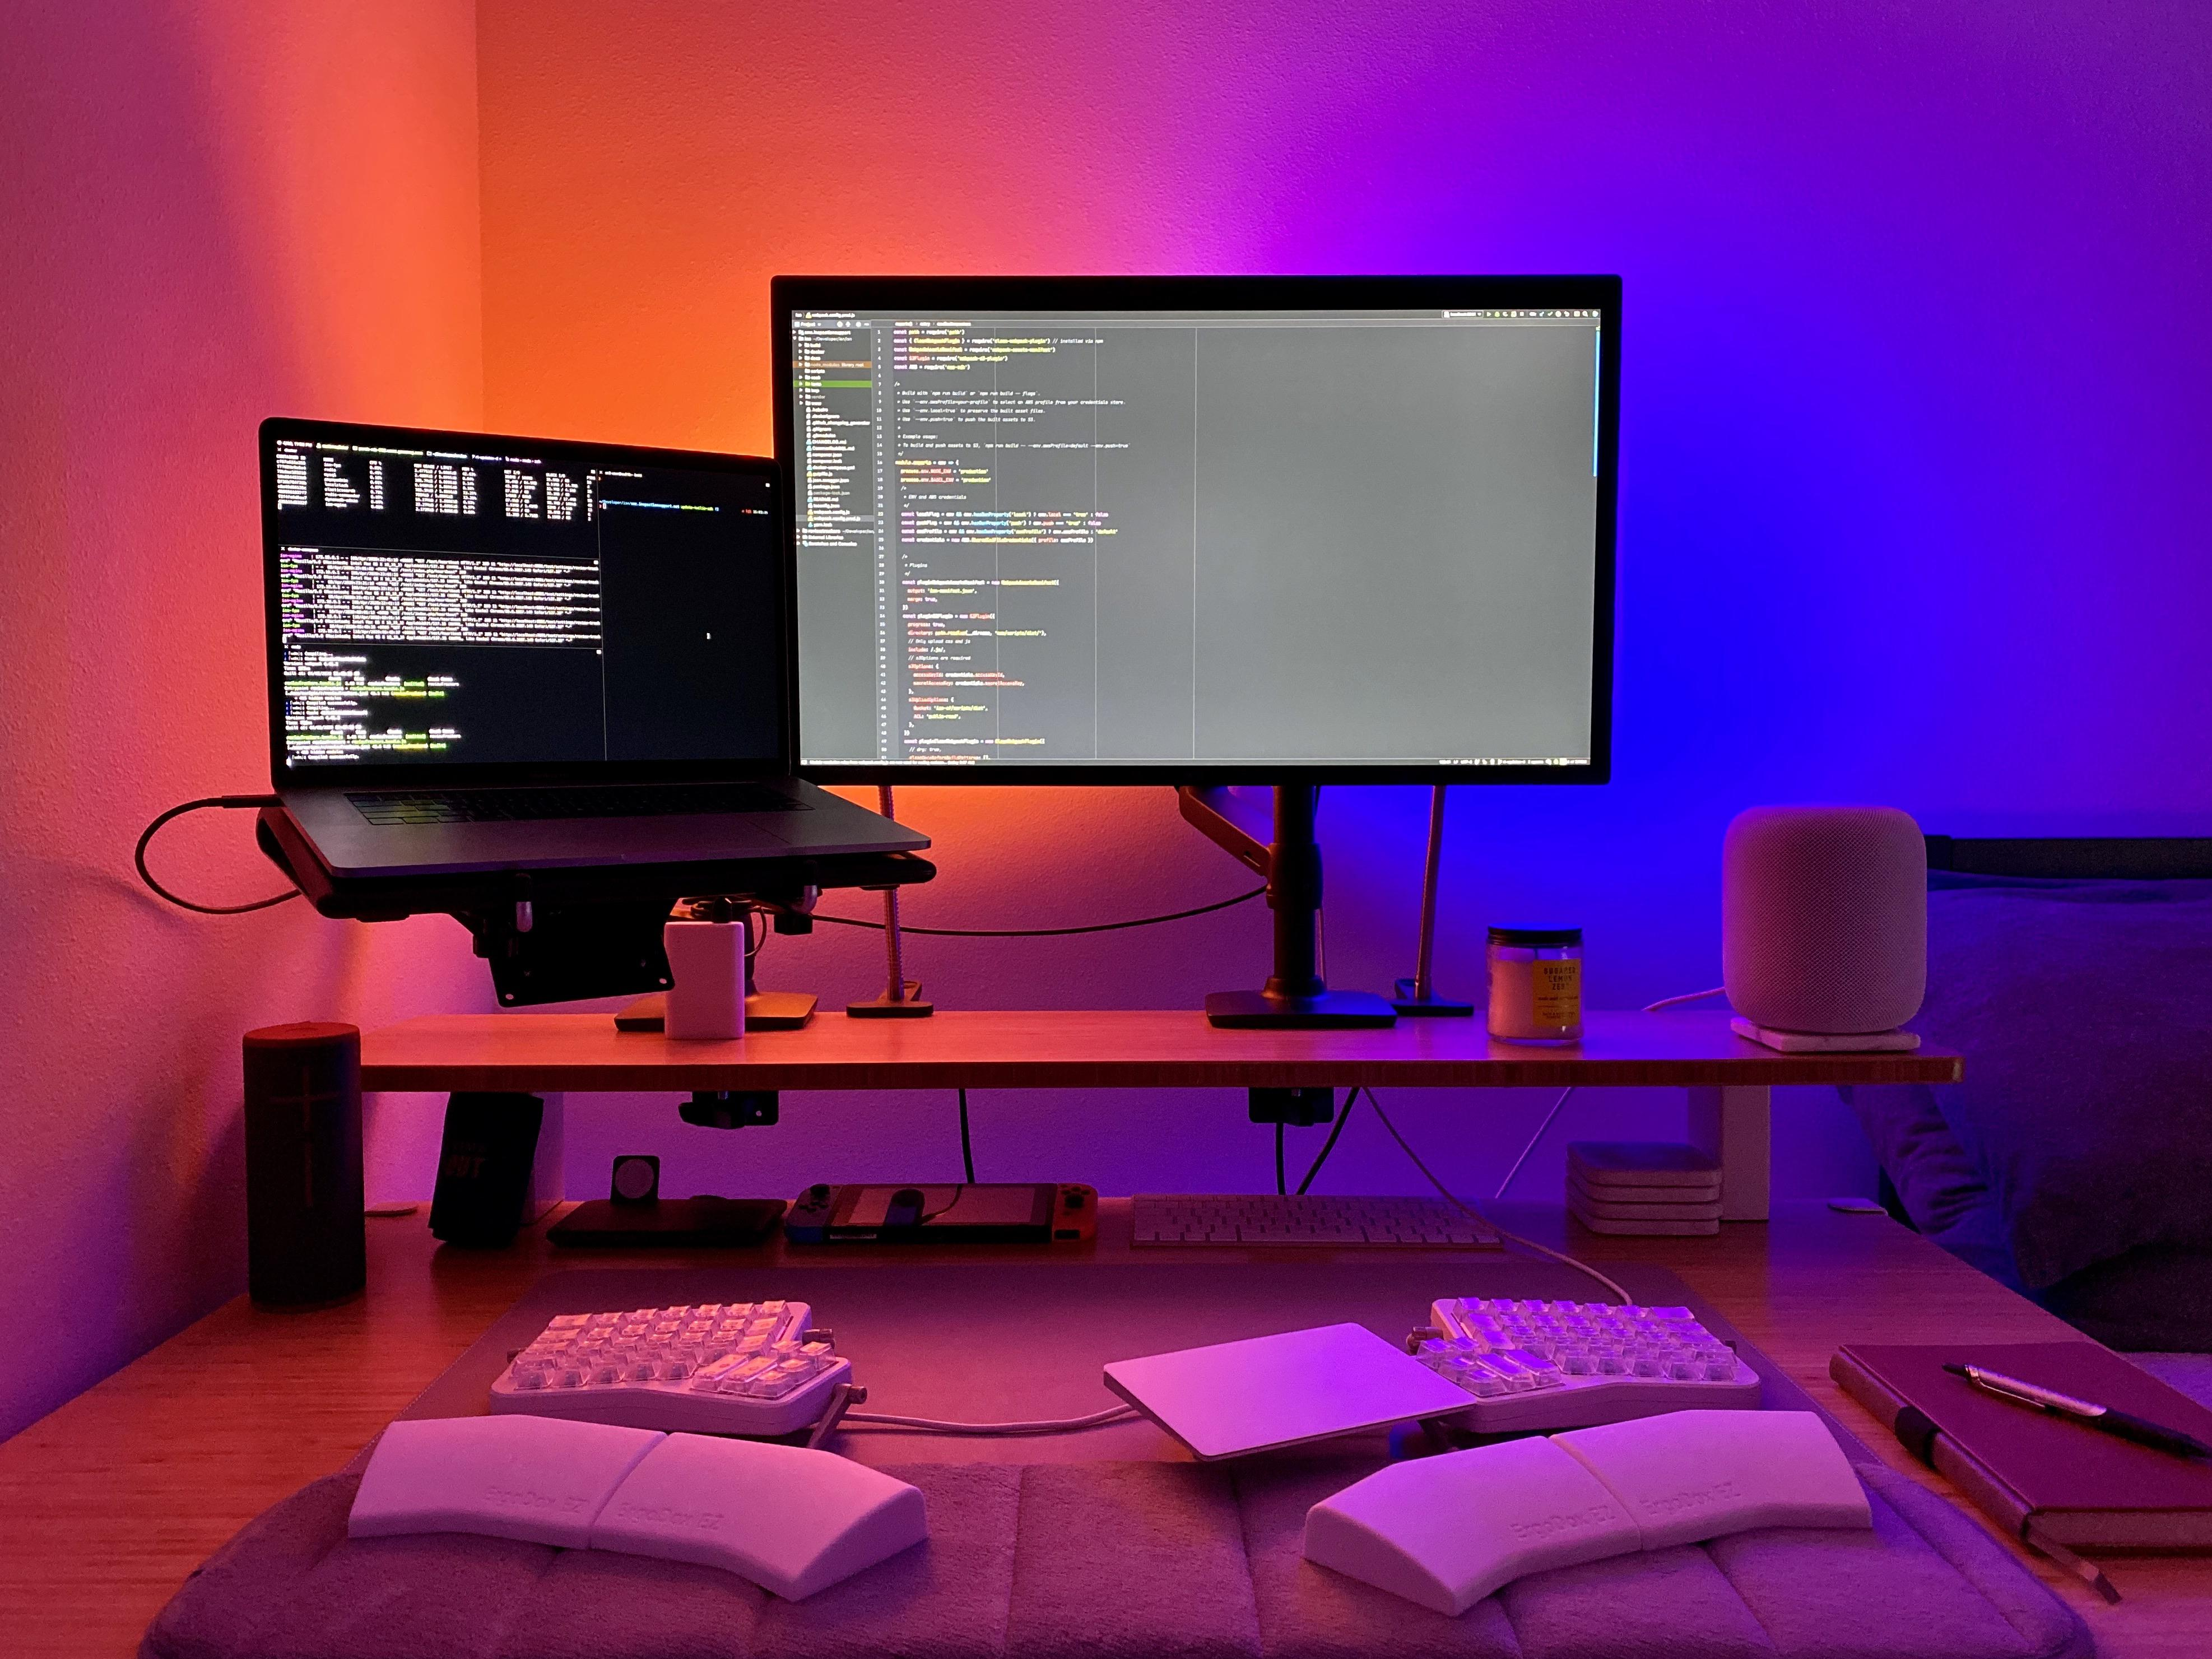Decoration (Candle): (1470, 927, 1595, 1051)
Desk (Generic): (0, 1206, 2212, 1659)
Drink Coaster: (1588, 1131, 1749, 1249), (1731, 1011, 1946, 1077)
Gaming Console: (784, 1173, 1101, 1249)
IoT Devices (Raspberry, Arduino, etc): (1723, 791, 1933, 1028)
Keyboard (Ergonomic): (509, 1284, 1768, 1439)
Keyboard (Generic): (1139, 1185, 1510, 1248)
Laptop (OSX): (263, 420, 822, 847)
Laptop Stand: (254, 824, 758, 1006)
Monitor (Landscape): (779, 279, 1604, 775)
Monitor (Laptop): (256, 429, 791, 782)
Monitor Arm: (1204, 793, 1390, 1035)
Mouse (Magic Trackpad): (1122, 1323, 1453, 1457)
Notebook: (1871, 1310, 2207, 1574)
